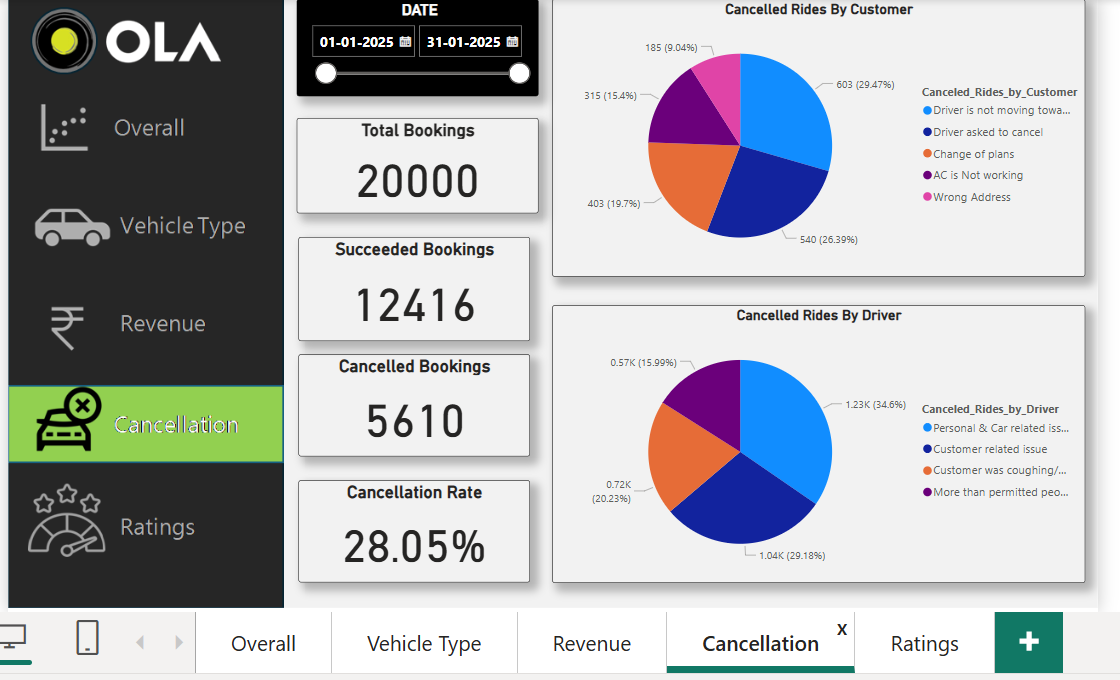

This screenshot's page, from the dashboard's own definition file:
{"tool":"powerbi","page":{"name":"Cancellation","canvas":[1280,720],"ordinal":3},"visuals":[{"type":"actionButton","box":[0,218,324.9,90.5],"z":0},{"type":"actionButton","box":[0,106.9,324.9,90.5],"z":1000},{"type":"actionButton","box":[0,341.3,324.9,90.5],"z":2000},{"type":"actionButton","box":[0,565.5,324.9,90.5],"z":3000},{"type":"pieChart","title":"Cancelled Rides By Customer","fields":{"Category":["January.Canceled_Rides_by_Customer"],"Y":["CountNonNull(January.Booking_Status)"]},"box":[640,0,626,326],"z":4000},{"type":"pieChart","title":"Cancelled Rides By Driver","fields":{"Y":["CountNonNull(January.Booking_Status)"],"Category":["January.Canceled_Rides_by_Driver"]},"box":[640,360,626,326],"z":5000},{"type":"slicer","title":"DATE","fields":{"Values":["January.Date"]},"box":[340,0,284,114],"z":6000},{"type":"card","title":"Succeeded Bookings","fields":{"Values":["CountNonNull(January.Booking_ID)"]},"box":[342,280,272,122],"z":7000},{"type":"card","title":"Total Bookings","fields":{"Values":["CountNonNull(January.Booking_ID)"]},"box":[340,140,284,112],"z":8000},{"type":"card","title":"Cancelled Bookings","fields":{"Values":["CountNonNull(January.Booking_ID)"]},"box":[342,418,272,120],"z":9000},{"type":"card","title":"Cancellation Rate","fields":{"Values":["January.CanceledPercentage"]},"box":[342,566,272,120],"z":10000}]}

Visuals, with their boxes on the page's 1280x720 design canvas (x1, y1, x2, y2). These are canvas units, not pixel positions in the 1120x680 screenshot, which may show the page scaled, cropped or inside an application window:
actionButton: select_region(0, 218, 325, 308)
actionButton: select_region(0, 107, 325, 197)
actionButton: select_region(0, 341, 325, 432)
actionButton: select_region(0, 566, 325, 656)
"Cancelled Rides By Customer" pieChart: select_region(640, 0, 1266, 326)
"Cancelled Rides By Driver" pieChart: select_region(640, 360, 1266, 686)
"DATE" slicer: select_region(340, 0, 624, 114)
"Succeeded Bookings" card: select_region(342, 280, 614, 402)
"Total Bookings" card: select_region(340, 140, 624, 252)
"Cancelled Bookings" card: select_region(342, 418, 614, 538)
"Cancellation Rate" card: select_region(342, 566, 614, 686)
